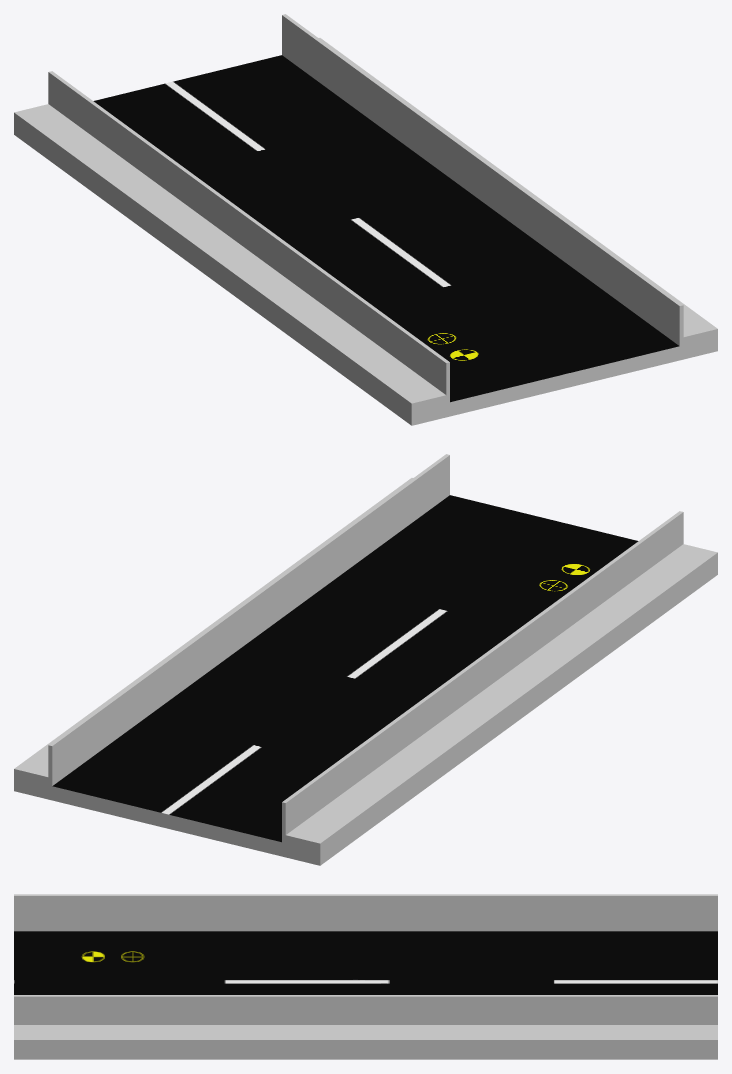
The picture shows the model from 3 angles, top to bottom: view 1: azimuth 30°, elevation 25°; view 2: azimuth 150°, elevation 25°; view 3: azimuth 270°, elevation 25°; orthographic projection. The views are drawn at different scales.
Visible parts, largest first — view 1: Group1; view 2: Group1; view 3: Group1.
Boxes of the visible parts, x1,y1,x2,y2 form: Group1: (14, 14, 717, 425); Group1: (14, 454, 717, 865); Group1: (14, 894, 717, 1059).
Bounding box in the file's own units: 0.8 × 1.8 × 0.1356.
